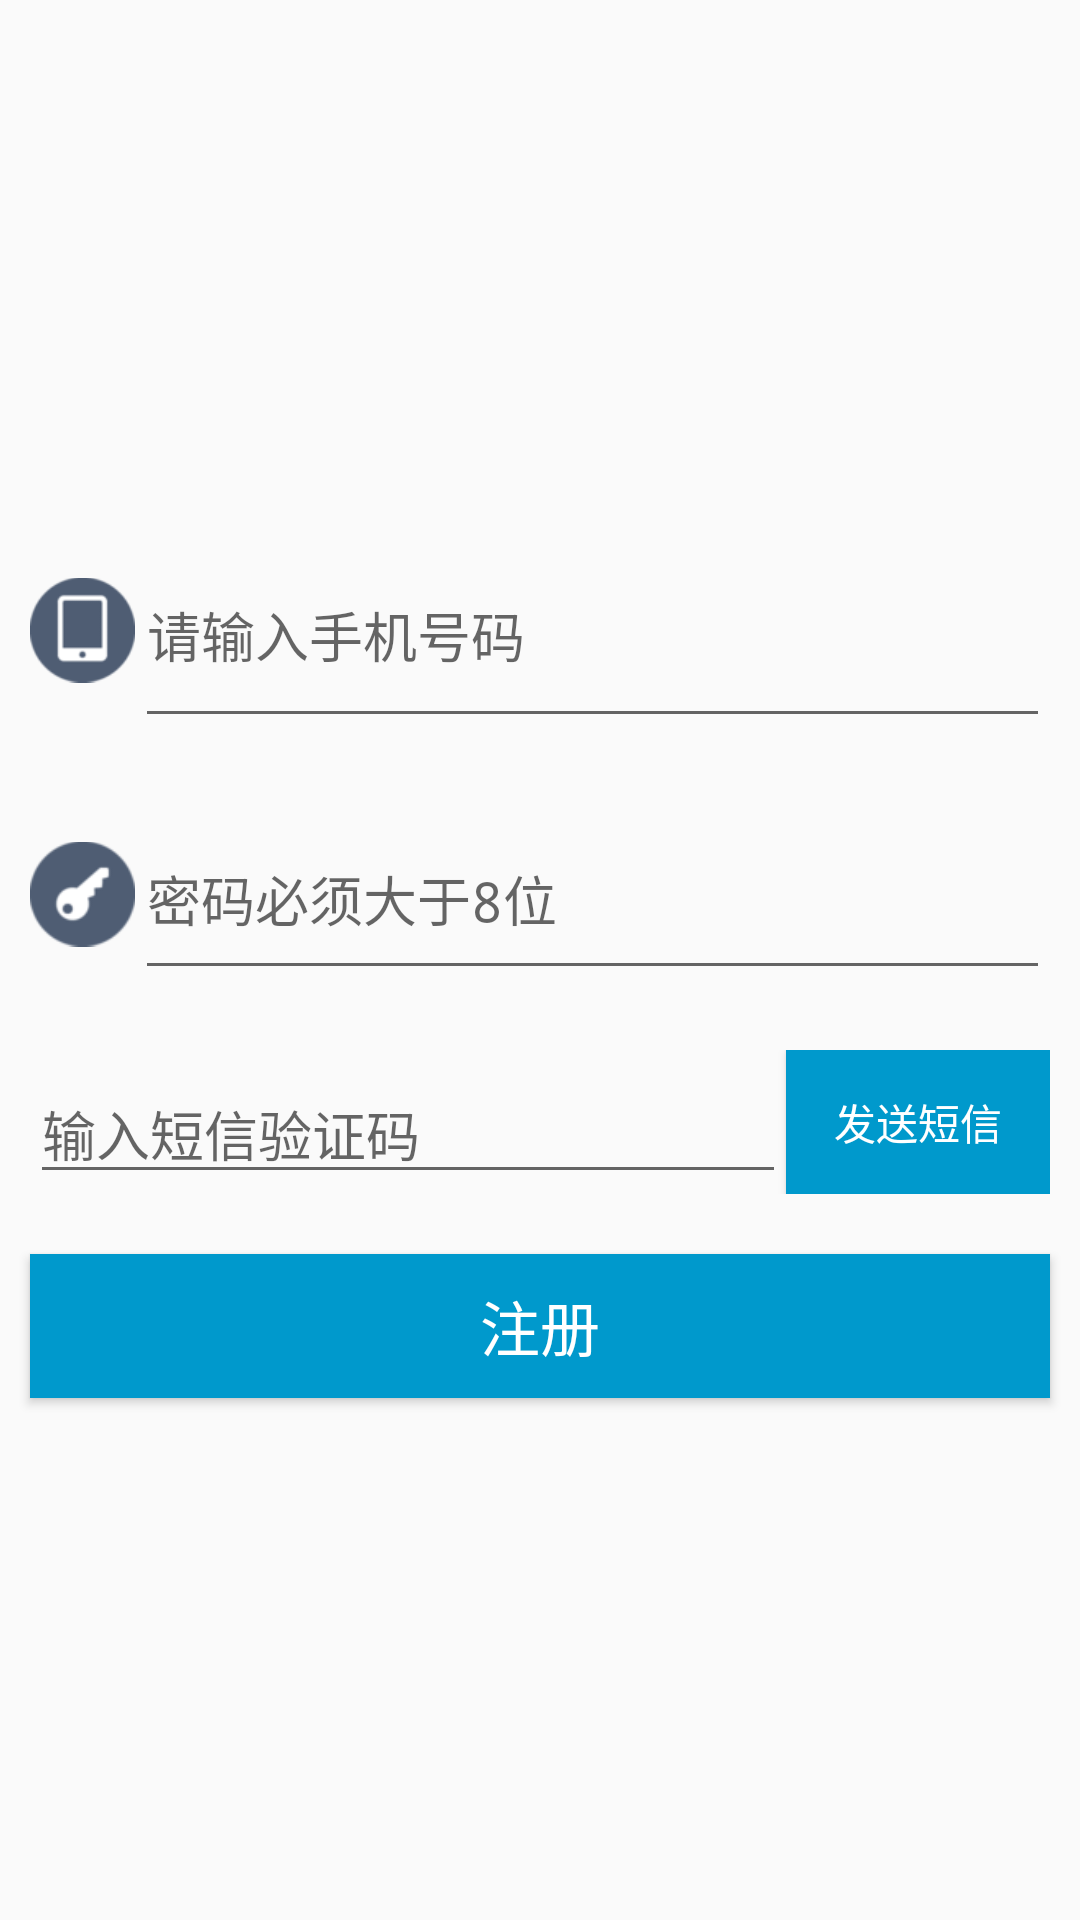

Screen size 1080 × 1920. Icon name, then its center in pixels as (x,y):
mobile: (82,630)
